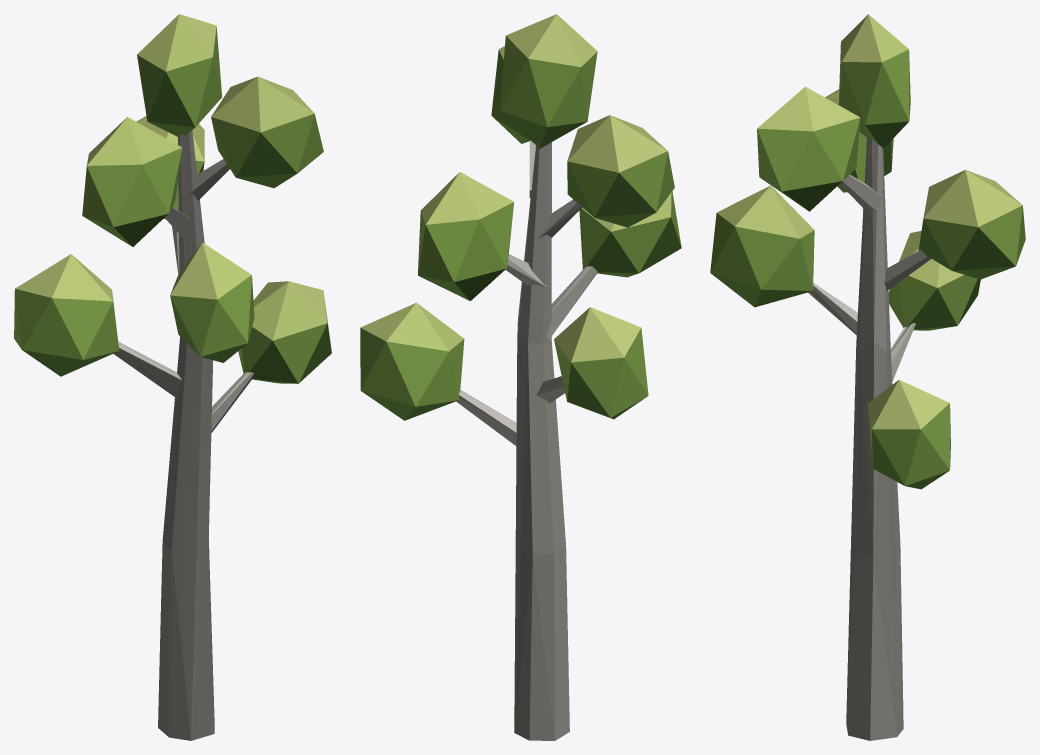
3 renders of one model, left to right at view 1: azimuth 30°, elevation 25°; view 2: azimuth 150°, elevation 25°; view 3: azimuth 270°, elevation 25°, orthographic.
Visible parts, largest first — view 1: WK_Tree_Birch_FreshSlender_LOD1_Balanced; view 2: WK_Tree_Birch_FreshSlender_LOD1_Balanced; view 3: WK_Tree_Birch_FreshSlender_LOD1_Balanced.
Part boxes in pixels (left/top/right/bottom): WK_Tree_Birch_FreshSlender_LOD1_Balanced: left=14, top=14, right=331, bottom=740; WK_Tree_Birch_FreshSlender_LOD1_Balanced: left=360, top=14, right=681, bottom=740; WK_Tree_Birch_FreshSlender_LOD1_Balanced: left=710, top=14, right=1025, bottom=740.
Bounding box in the file's own units: 3.22 × 7.47 × 3.01.
